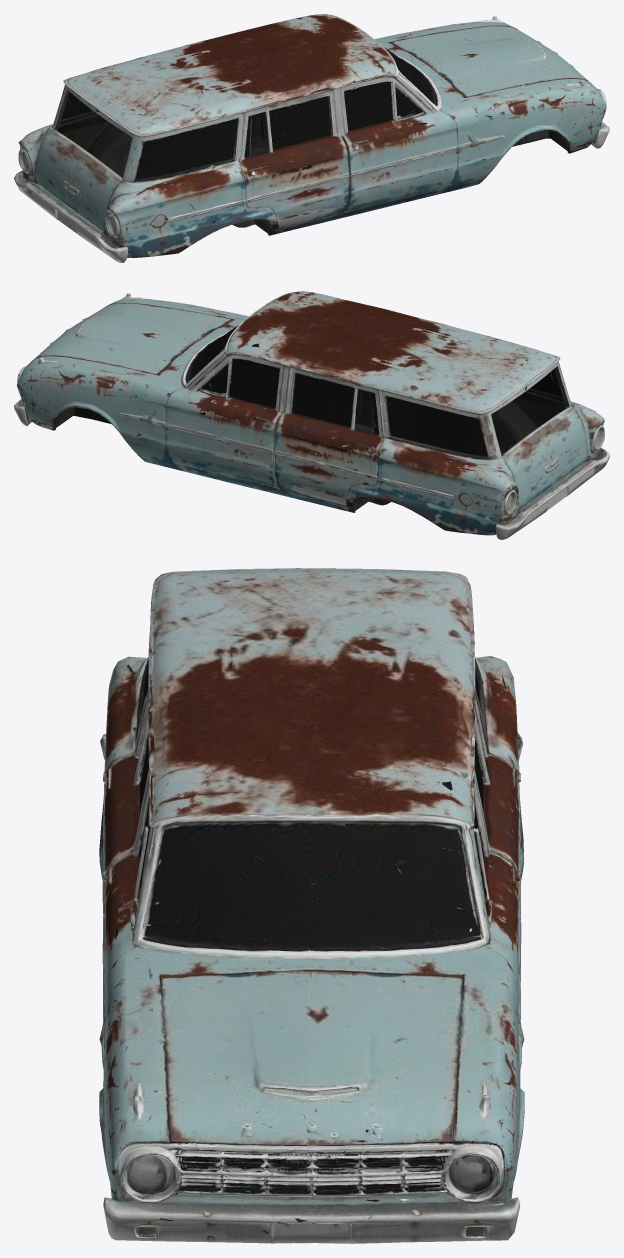
Rendered from blue_wagon.glb.
3 renders of one model, top to bottom at view 1: azimuth 30°, elevation 25°; view 2: azimuth 150°, elevation 25°; view 3: azimuth 270°, elevation 25°, orthographic. The views are drawn at different scales.
Visible parts, largest first — view 1: blue_wagon; view 2: blue_wagon; view 3: blue_wagon.
Boxes of the visible parts, x1,y1,x2,y2 form: blue_wagon: [14, 14, 609, 262]; blue_wagon: [14, 291, 609, 539]; blue_wagon: [99, 568, 524, 1243].
Bounding box in the file's own units: 4.85 × 1.26 × 1.77.
1 material, 1 textured.
